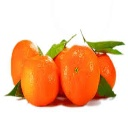orange: (61, 44, 100, 105)
